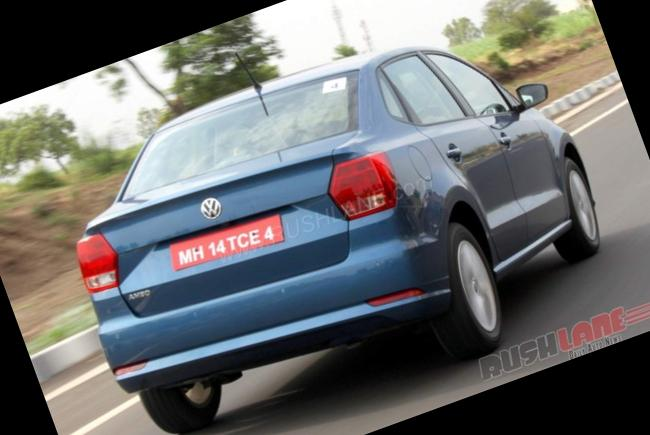plate: (159, 195, 301, 285)
